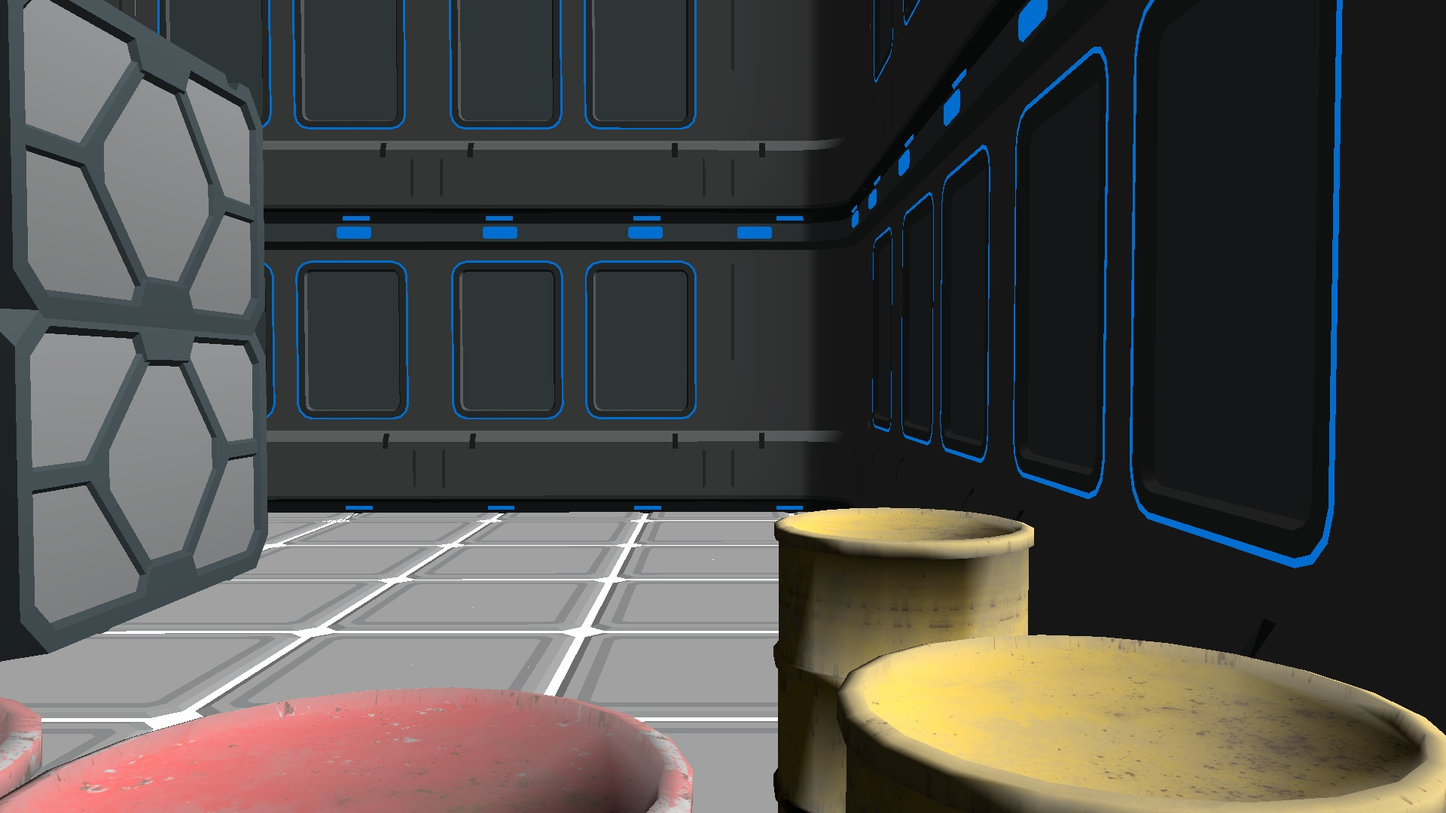toxic barrel: (837, 635, 1446, 813), (0, 687, 693, 813), (773, 508, 1035, 813), (0, 697, 41, 813)
